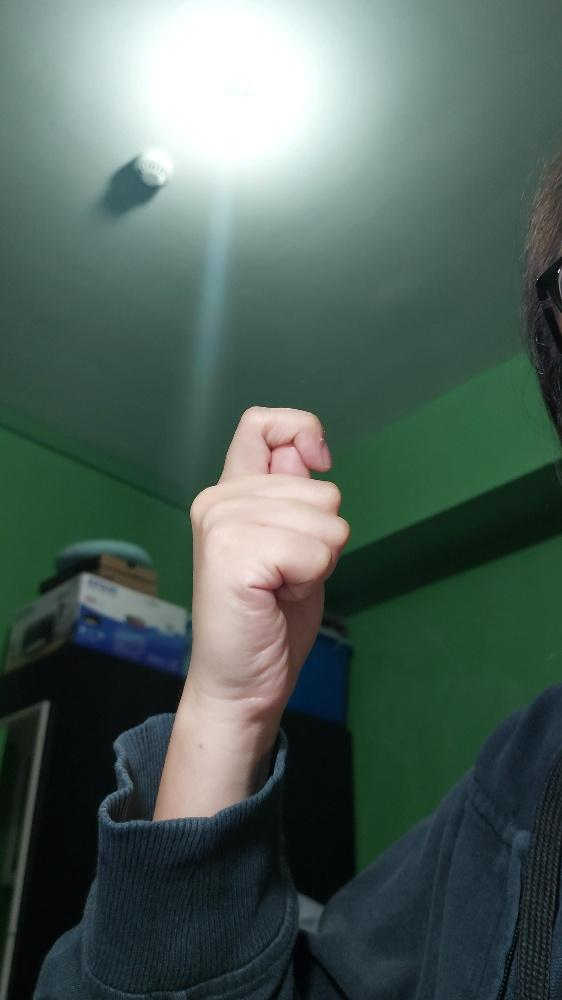t: (188, 405, 350, 702)
